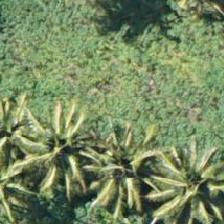coconut_tree: (10, 104, 100, 194), (59, 135, 149, 223), (142, 160, 223, 223)
